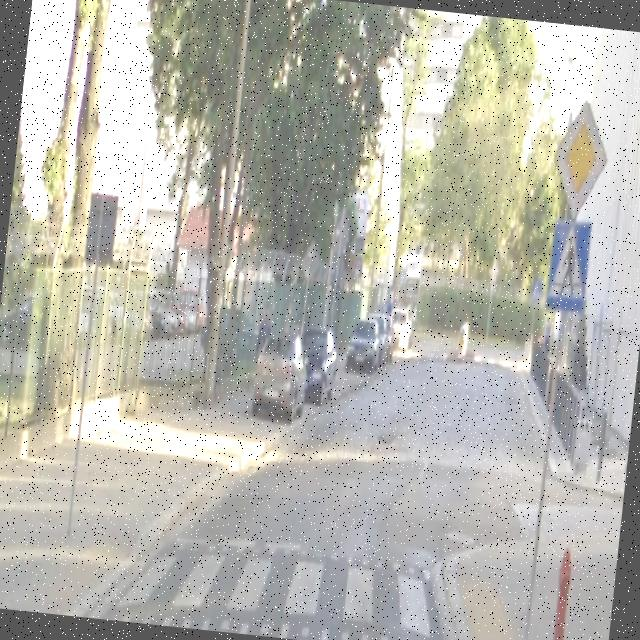Droga z pierwszenstwem: (550, 98, 610, 222)
Przejscie dla pieszych: (546, 220, 589, 308)
